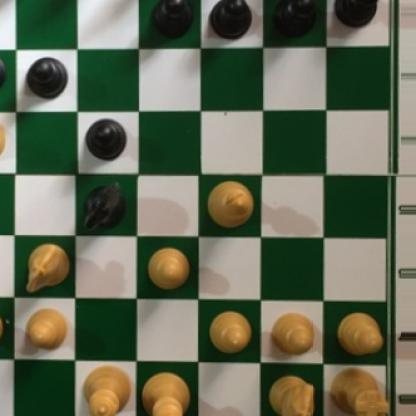black-knight: (79, 178, 128, 233)
black-pawn: (81, 113, 128, 162), (23, 52, 71, 98), (148, 0, 192, 43), (269, 0, 313, 41), (205, 0, 249, 40), (333, 0, 381, 25), (0, 45, 4, 89)
white-bishop: (202, 173, 256, 227), (0, 116, 8, 166)
white-king: (137, 368, 190, 416)
white-knight: (23, 238, 71, 292), (268, 372, 315, 416)
white-pawn: (330, 310, 383, 356), (208, 307, 256, 356), (145, 246, 192, 294), (21, 305, 69, 351), (268, 313, 316, 357), (0, 303, 6, 354)
white-queen: (78, 361, 132, 416)
white-rook: (326, 364, 388, 416)
